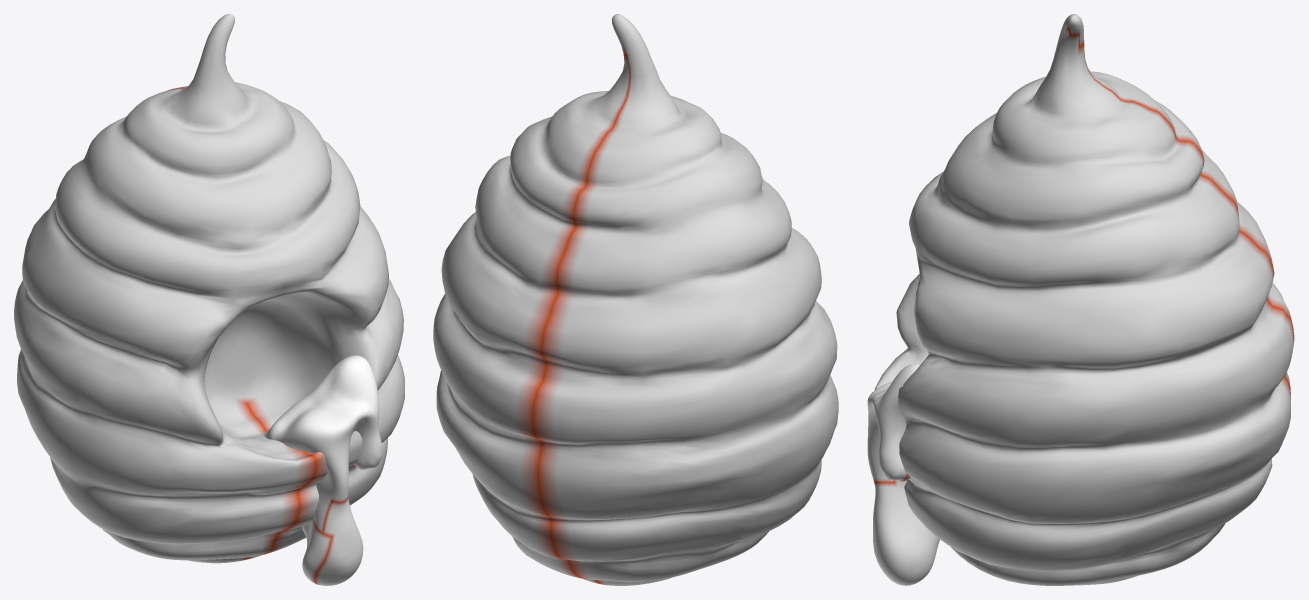
Rendered from Beehive.fbx.
The picture shows the model from 3 angles, left to right: view 1: azimuth 30°, elevation 25°; view 2: azimuth 150°, elevation 25°; view 3: azimuth 270°, elevation 25°; orthographic projection. The views are drawn at different scales.
Visible parts, largest first — view 1: DynaWax128_SeamsColor, PM3D_Sphere3D1_SeamsColor; view 2: DynaWax128_SeamsColor; view 3: DynaWax128_SeamsColor, PM3D_Sphere3D1_SeamsColor.
Part boxes in pixels (bbox=[...]): DynaWax128_SeamsColor: bbox=[14, 14, 404, 563]; PM3D_Sphere3D1_SeamsColor: bbox=[263, 355, 382, 585]; DynaWax128_SeamsColor: bbox=[433, 14, 838, 585]; DynaWax128_SeamsColor: bbox=[874, 14, 1294, 585]; PM3D_Sphere3D1_SeamsColor: bbox=[867, 363, 939, 585].
Bounding box in the file's own units: 2.31 × 3.47 × 2.35.
